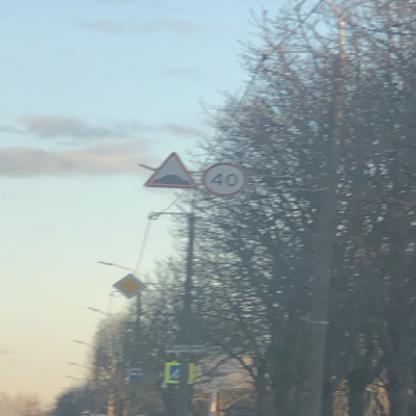crosswalk: (168, 362, 180, 378)
speedlimit: (200, 161, 242, 196)
